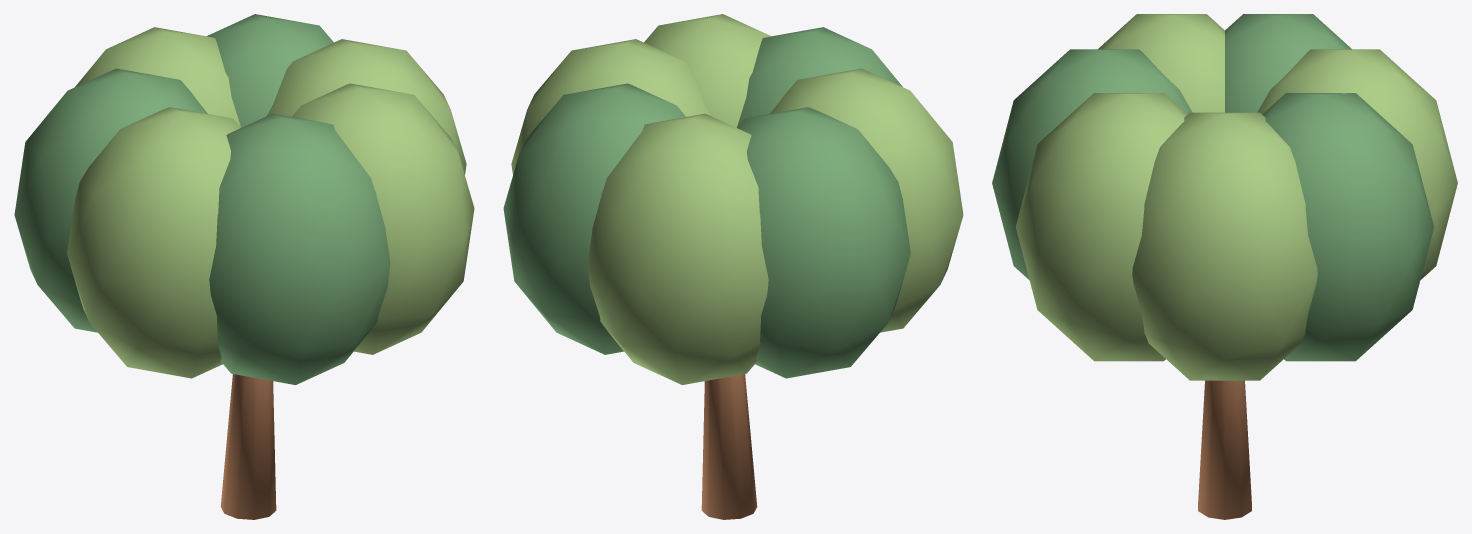
File: Willow_tree.fbx
3 views of the same model, side by side, from view 1: azimuth 30°, elevation 25°; view 2: azimuth 150°, elevation 25°; view 3: azimuth 270°, elevation 25° (orthographic).
Parts seen in each view (by area): view 1: Town_Willow_tree Drooping crown.012, Town_Willow_tree Drooping crown.011, Town_Willow_tree Drooping crown.013, Town_Willow_tree Drooping crown.010, Town_Willow_tree Drooping crown.007, Town_Willow_tree Drooping crown.008, Town_Willow_tree Tree trunk.001, Town_Willow_tree Drooping crown.009; view 2: Town_Willow_tree Drooping crown.009, Town_Willow_tree Drooping crown.010, Town_Willow_tree Drooping crown.008, Town_Willow_tree Drooping crown.011, Town_Willow_tree Drooping crown.007, Town_Willow_tree Drooping crown.013, Town_Willow_tree Tree trunk.001, Town_Willow_tree Drooping crown.012; view 3: Town_Willow_tree Drooping crown.007, Town_Willow_tree Drooping crown.008, Town_Willow_tree Drooping crown.013, Town_Willow_tree Drooping crown.009, Town_Willow_tree Drooping crown.012, Town_Willow_tree Drooping crown.010, Town_Willow_tree Drooping crown.011, Town_Willow_tree Tree trunk.001.
Part boxes in pixels (x1,y1,x2,y2): Town_Willow_tree Drooping crown.012: (209, 113, 390, 384); Town_Willow_tree Drooping crown.011: (67, 107, 240, 378); Town_Willow_tree Drooping crown.013: (292, 83, 474, 354); Town_Willow_tree Drooping crown.010: (14, 68, 207, 332); Town_Willow_tree Drooping crown.007: (267, 39, 466, 174); Town_Willow_tree Drooping crown.008: (207, 14, 333, 127); Town_Willow_tree Tree trunk.001: (220, 374, 276, 519); Town_Willow_tree Drooping crown.009: (75, 27, 240, 126); Town_Willow_tree Drooping crown.009: (587, 113, 768, 384); Town_Willow_tree Drooping crown.010: (737, 107, 910, 378); Town_Willow_tree Drooping crown.008: (503, 83, 685, 354); Town_Willow_tree Drooping crown.011: (770, 68, 963, 332); Town_Willow_tree Drooping crown.007: (511, 39, 710, 174); Town_Willow_tree Drooping crown.013: (644, 14, 770, 127); Town_Willow_tree Tree trunk.001: (701, 374, 757, 519); Town_Willow_tree Drooping crown.012: (737, 27, 902, 126); Town_Willow_tree Drooping crown.007: (1132, 112, 1317, 380); Town_Willow_tree Drooping crown.008: (1262, 93, 1434, 361); Town_Willow_tree Drooping crown.013: (1015, 93, 1187, 361); Town_Willow_tree Drooping crown.009: (1257, 49, 1457, 279); Town_Willow_tree Drooping crown.012: (992, 49, 1192, 279); Town_Willow_tree Drooping crown.010: (1225, 14, 1351, 112); Town_Willow_tree Drooping crown.011: (1098, 14, 1224, 112); Town_Willow_tree Tree trunk.001: (1198, 380, 1251, 519).
Bounding box in the file's own units: 485 × 521 × 493.
